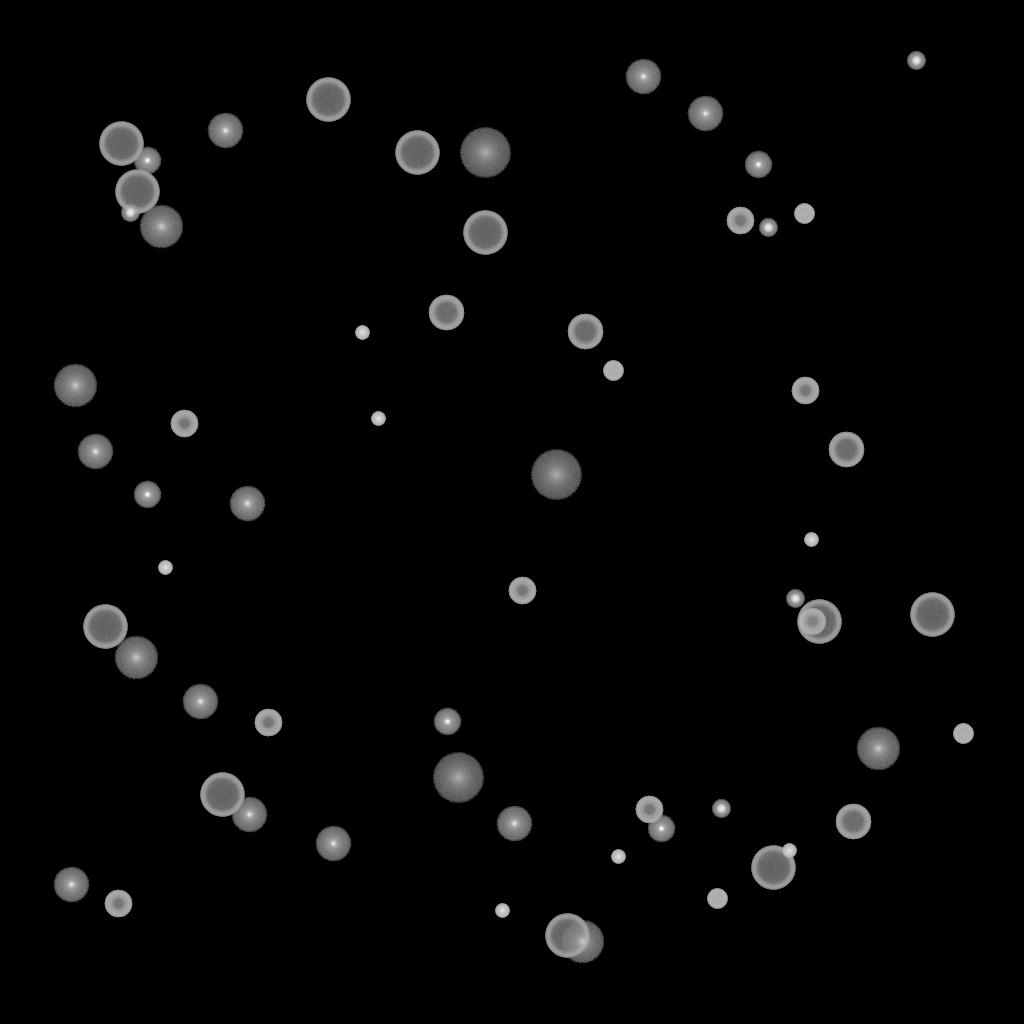depth:-10: (133, 147, 161, 175), (133, 481, 161, 509), (647, 815, 675, 843), (433, 708, 461, 736), (744, 151, 772, 179)
depth:-20: (712, 800, 730, 818), (786, 590, 804, 608), (907, 52, 925, 70), (759, 219, 777, 237), (121, 204, 139, 222)
depth:-30: (782, 844, 796, 858), (611, 850, 625, 864), (355, 326, 369, 340), (158, 561, 172, 575), (495, 904, 509, 918), (804, 533, 818, 547), (371, 412, 385, 426)
depth:-40: (707, 889, 727, 909), (603, 361, 623, 381), (794, 204, 814, 224), (953, 724, 973, 744)
depth:-50: (508, 577, 536, 605), (254, 709, 282, 737), (798, 608, 826, 636), (726, 207, 754, 235), (635, 796, 663, 824), (791, 377, 819, 405), (104, 890, 132, 918), (170, 410, 198, 438)
depth:-60: (828, 432, 864, 468), (567, 314, 603, 350), (835, 804, 871, 840), (428, 295, 464, 331)
depth:-70: (115, 170, 159, 214), (463, 211, 507, 255), (99, 122, 143, 166), (910, 593, 954, 637), (751, 846, 795, 890), (306, 78, 350, 122), (545, 914, 589, 958), (83, 605, 127, 649), (200, 773, 244, 817), (797, 600, 841, 644), (395, 131, 439, 175)
depth:0: (182, 684, 218, 720), (207, 113, 243, 149), (231, 797, 267, 833), (315, 826, 351, 862), (496, 806, 532, 842), (625, 59, 661, 95), (77, 434, 113, 470), (53, 867, 89, 903), (687, 96, 723, 132), (229, 486, 265, 522)
depth:10: (53, 364, 97, 408), (139, 205, 183, 249), (560, 920, 604, 964), (114, 636, 158, 680), (856, 727, 900, 771)
depth:20: (432, 753, 484, 803), (530, 450, 582, 500), (459, 128, 511, 178)
